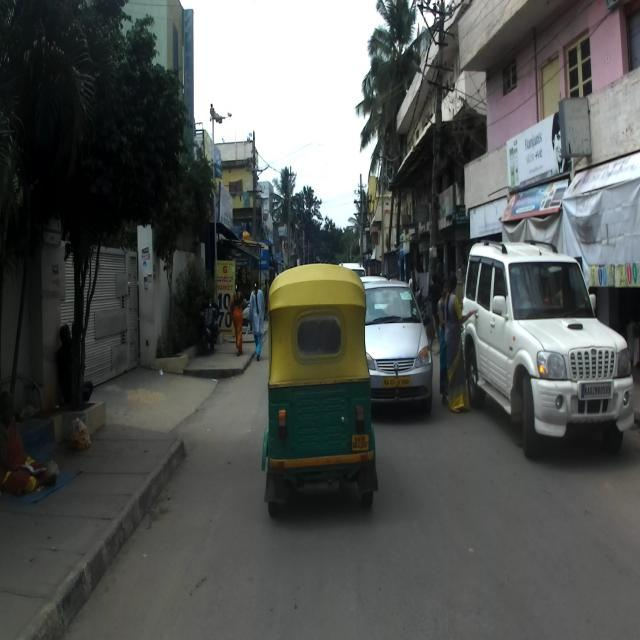Car: (359, 276, 388, 284)
Car_Mahindra: (459, 239, 635, 459)
Car_TATA: (358, 278, 434, 420)
autorickshaw: (261, 262, 379, 519)
scooter: (197, 297, 220, 355)
